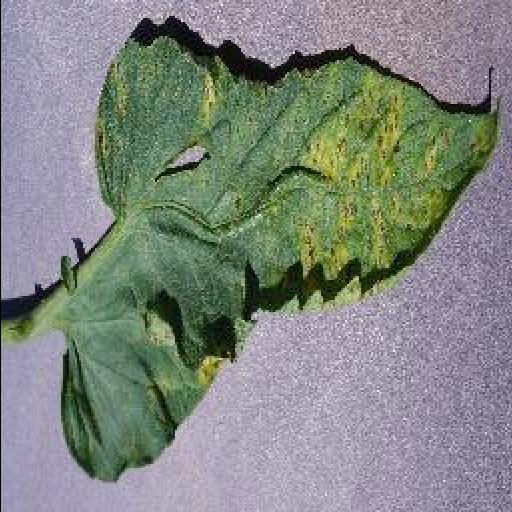disease_tomato: (60, 32, 504, 482)
